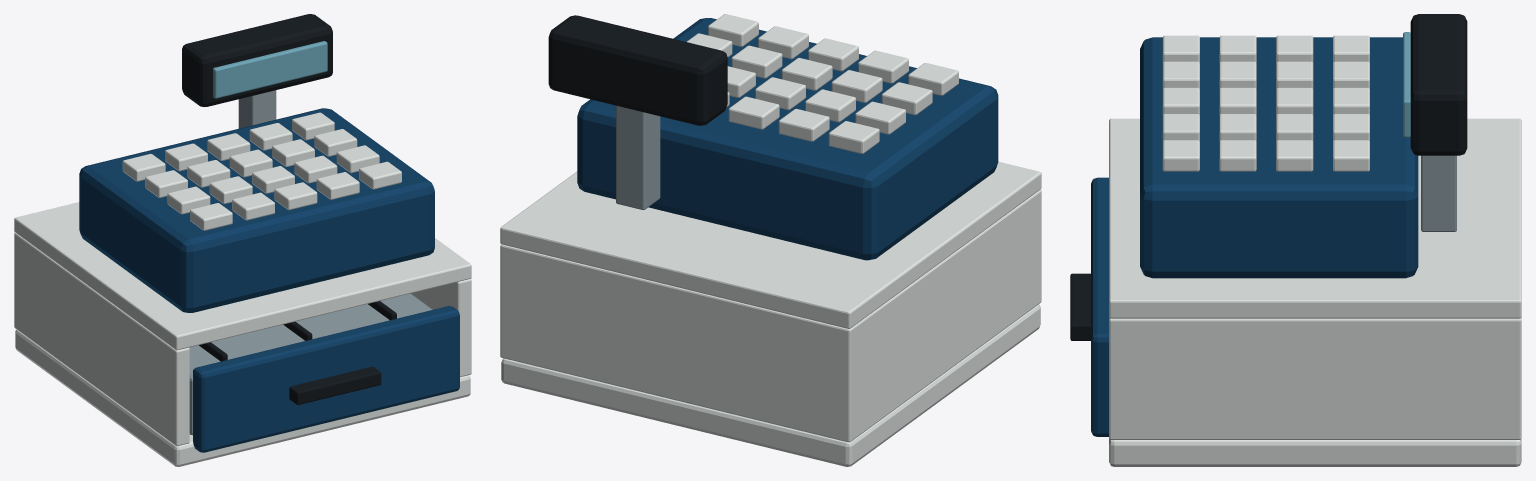
3 renders of one model, left to right at view 1: azimuth 30°, elevation 25°; view 2: azimuth 150°, elevation 25°; view 3: azimuth 270°, elevation 25°, orthographic. The views are drawn at different scales.
Parts seen in each view (by area): view 1: KEYPAD_Console, DRAWER_Front, BASE_Top, BASE_Side.001, BASE_Floor, DISPLAY_Housing, DRAWER_Tray, DISPLAY_Face, BASE_Side, DRAWER_Handle, DISPLAY_Support, KEYPAD_Key.008 (+19 smaller); view 2: KEYPAD_Console, BASE_Back, BASE_Top, BASE_Side.001, DISPLAY_Housing, BASE_Floor, DISPLAY_Support, BASE_Side, KEYPAD_Key.011, KEYPAD_Key.003, KEYPAD_Key.007, KEYPAD_Key.013 (+12 smaller); view 3: BASE_Side, KEYPAD_Console, BASE_Top, BASE_Floor, DISPLAY_Housing, DRAWER_Front, DISPLAY_Support, DRAWER_Handle, KEYPAD_Key.017, KEYPAD_Key.016, KEYPAD_Key.018, KEYPAD_Key.019 (+17 smaller).
Part boxes in pixels (left/top/right/bottom): KEYPAD_Console: left=79, top=108, right=434, bottom=312; DRAWER_Front: left=193, top=306, right=459, bottom=452; BASE_Top: left=14, top=202, right=471, bottom=350; BASE_Side.001: left=14, top=232, right=189, bottom=446; BASE_Floor: left=15, top=329, right=470, bottom=466; DISPLAY_Housing: left=182, top=14, right=332, bottom=106; DRAWER_Tray: left=189, top=293, right=432, bottom=435; DISPLAY_Face: left=213, top=41, right=327, bottom=98; BASE_Side: left=411, top=279, right=471, bottom=377; DRAWER_Handle: left=289, top=366, right=381, bottom=404; DISPLAY_Support: left=238, top=90, right=276, bottom=128; KEYPAD_Key.008: left=274, top=182, right=317, bottom=210; KEYPAD_Console: left=577, top=18, right=998, bottom=260; BASE_Back: left=510, top=246, right=839, bottom=439; BASE_Top: left=500, top=161, right=1041, bottom=328; BASE_Side.001: left=835, top=189, right=1041, bottom=442; DISPLAY_Housing: left=548, top=15, right=727, bottom=125; BASE_Floor: left=501, top=304, right=1040, bottom=466; DISPLAY_Support: left=616, top=105, right=660, bottom=209; BASE_Side: left=500, top=244, right=514, bottom=360; KEYPAD_Key.011: left=728, top=96, right=779, bottom=129; KEYPAD_Key.003: left=828, top=121, right=879, bottom=153; KEYPAD_Key.007: left=778, top=108, right=829, bottom=141; KEYPAD_Key.013: left=731, top=45, right=782, bottom=78; BASE_Side: left=1109, top=317, right=1521, bottom=439; KEYPAD_Console: left=1140, top=37, right=1418, bottom=278; BASE_Top: left=1109, top=118, right=1521, bottom=318; BASE_Floor: left=1109, top=438, right=1521, bottom=466; DISPLAY_Housing: left=1410, top=14, right=1467, bottom=155; DRAWER_Front: left=1091, top=177, right=1108, bottom=436; DISPLAY_Support: left=1421, top=155, right=1456, bottom=231; DRAWER_Handle: left=1070, top=273, right=1090, bottom=340; KEYPAD_Key.017: left=1219, top=140, right=1256, bottom=171; KEYPAD_Key.016: left=1162, top=140, right=1199, bottom=171; KEYPAD_Key.018: left=1276, top=140, right=1313, bottom=171; KEYPAD_Key.019: left=1333, top=140, right=1369, bottom=171.
Bounding box in the file's own units: 0.42 × 0.39 × 0.4375.
